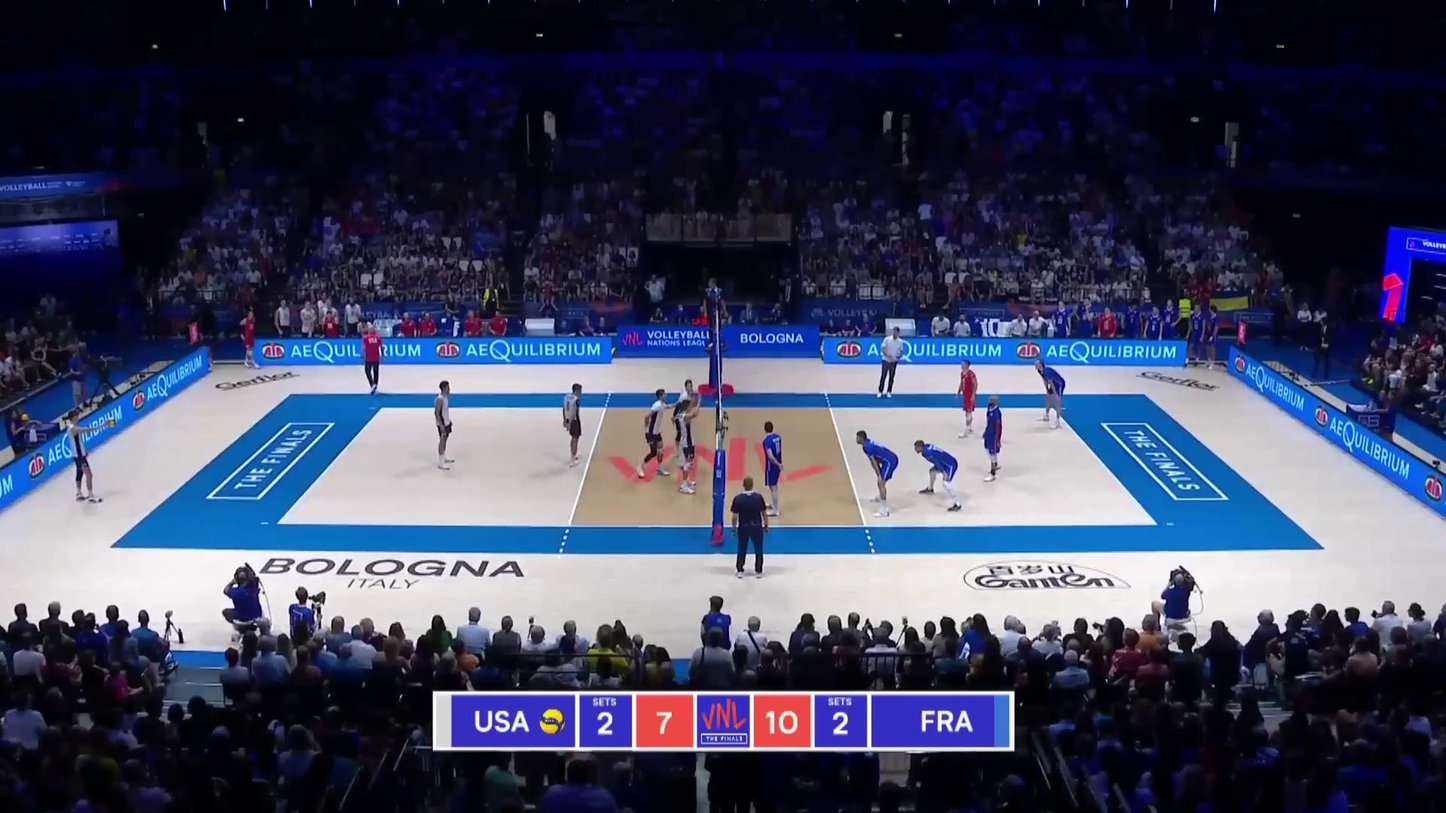player: (61, 412, 108, 503), (853, 430, 901, 516), (916, 439, 962, 511), (1033, 355, 1068, 431), (639, 389, 667, 478), (431, 381, 457, 470), (979, 396, 1006, 481), (761, 423, 785, 515), (676, 399, 698, 493), (956, 360, 981, 440), (562, 386, 586, 469), (675, 380, 698, 457)
refree: (731, 477, 770, 579), (700, 278, 724, 348)
